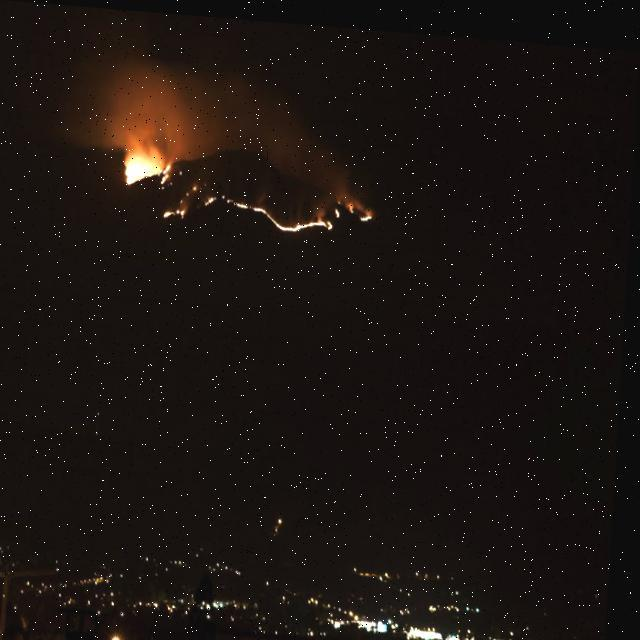Fire: (208, 184, 340, 234), (160, 182, 204, 218), (126, 152, 162, 180), (348, 198, 378, 218)
